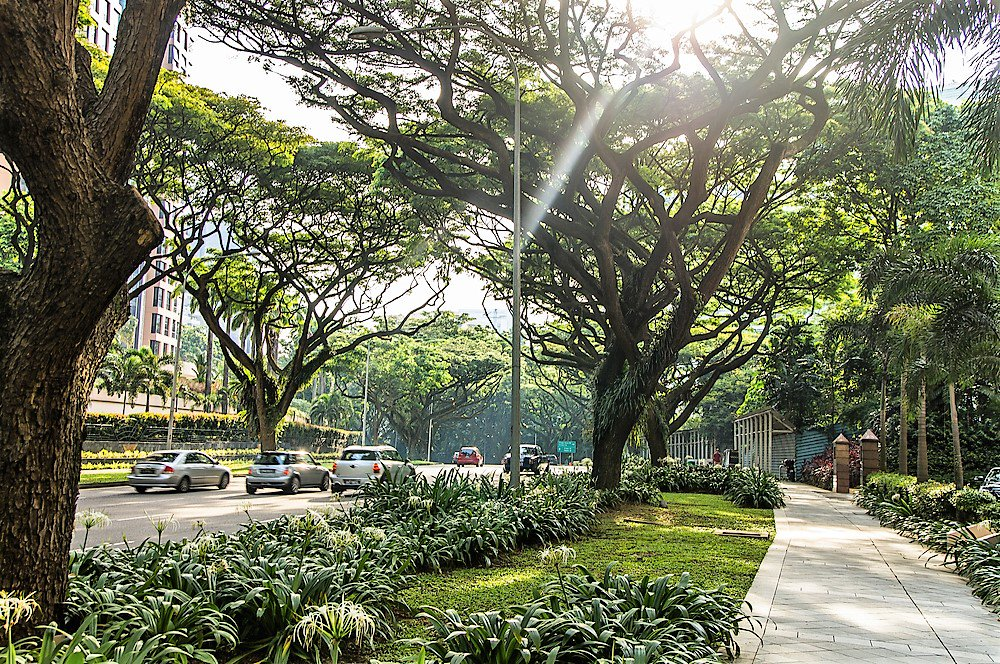pole: (512, 319, 519, 487)
tree: (1, 1, 164, 618), (588, 340, 625, 484), (646, 402, 674, 466)
tree branches: (313, 178, 402, 249), (619, 245, 703, 316), (548, 263, 593, 321)
